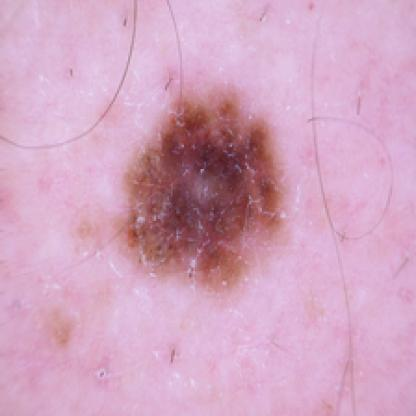Skin_Cancer-Malignant: (126, 87, 290, 295)
